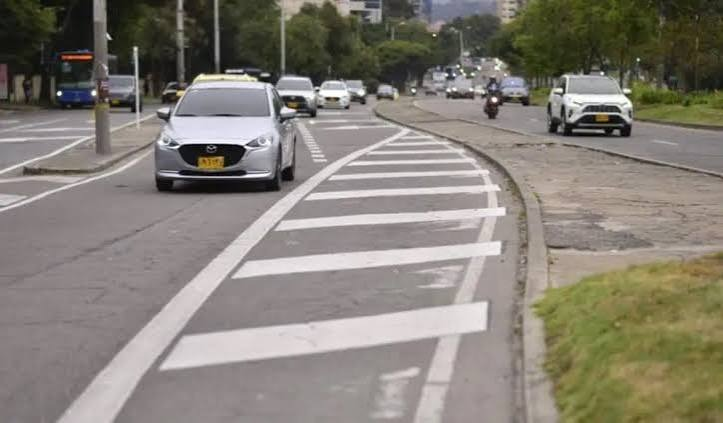car: (152, 76, 294, 193), (545, 71, 634, 136), (545, 73, 633, 135), (55, 50, 107, 106), (270, 74, 317, 116), (314, 78, 364, 110)
